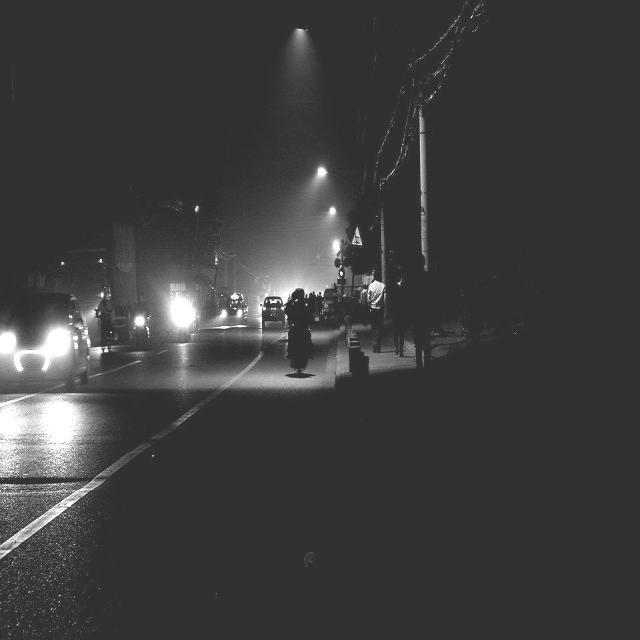Motorbike: (285, 286, 315, 374)
